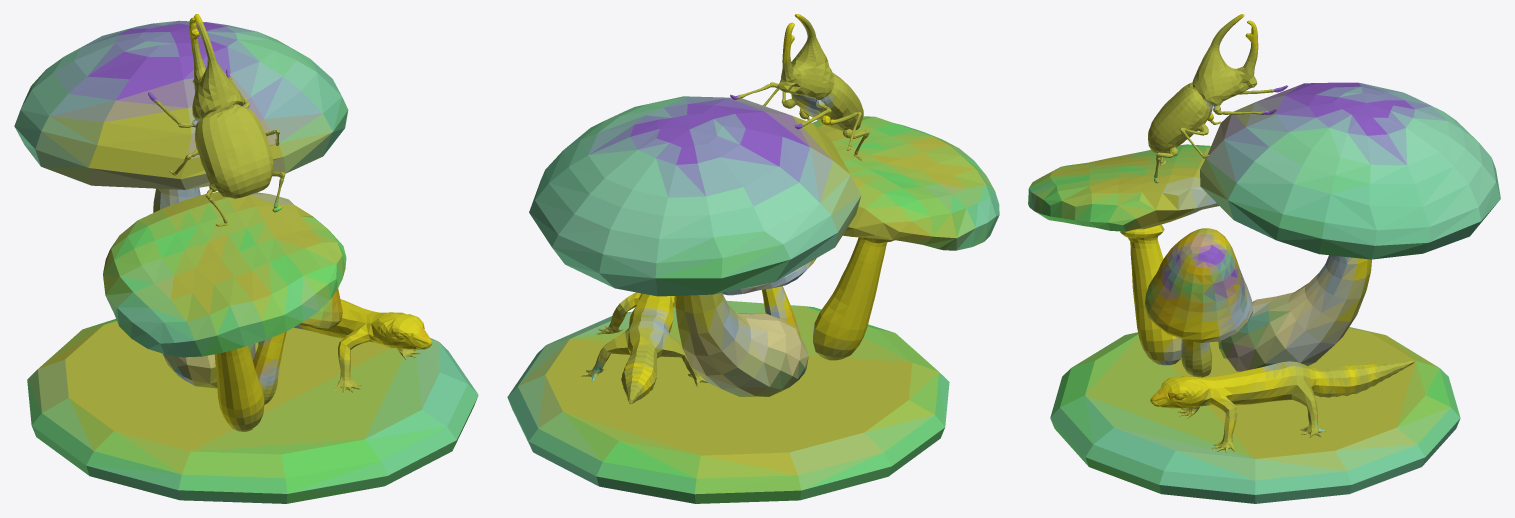
3 views of the same model, side by side, from view 1: azimuth 30°, elevation 25°; view 2: azimuth 150°, elevation 25°; view 3: azimuth 270°, elevation 25° (orthographic). The views are drawn at different scales.
Parts seen in each view (by area): view 1: world; view 2: world; view 3: world.
Part boxes in pixels (bbox=[...]): world: bbox=[14, 14, 478, 503]; world: bbox=[507, 14, 999, 503]; world: bbox=[1028, 14, 1500, 503].
Bounding box in the file's own units: 0.8615 × 0.8804 × 1.
